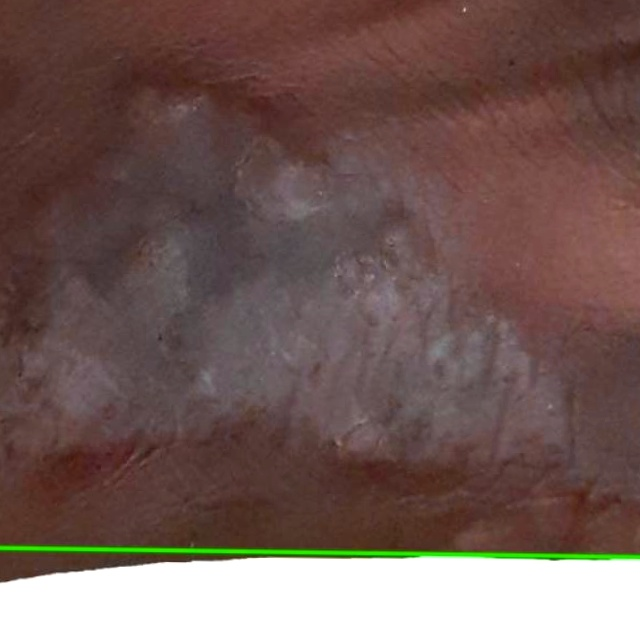Seborrheic Dermatitis: (0, 546, 639, 639)
